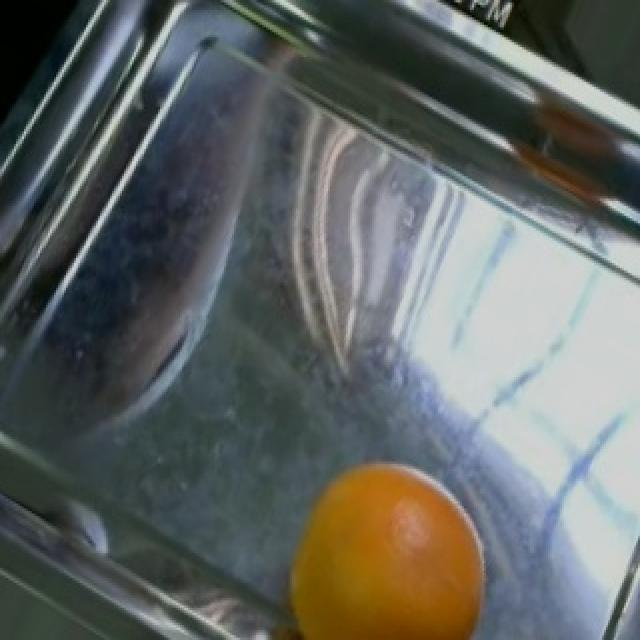Fruit: (274, 441, 504, 640)
